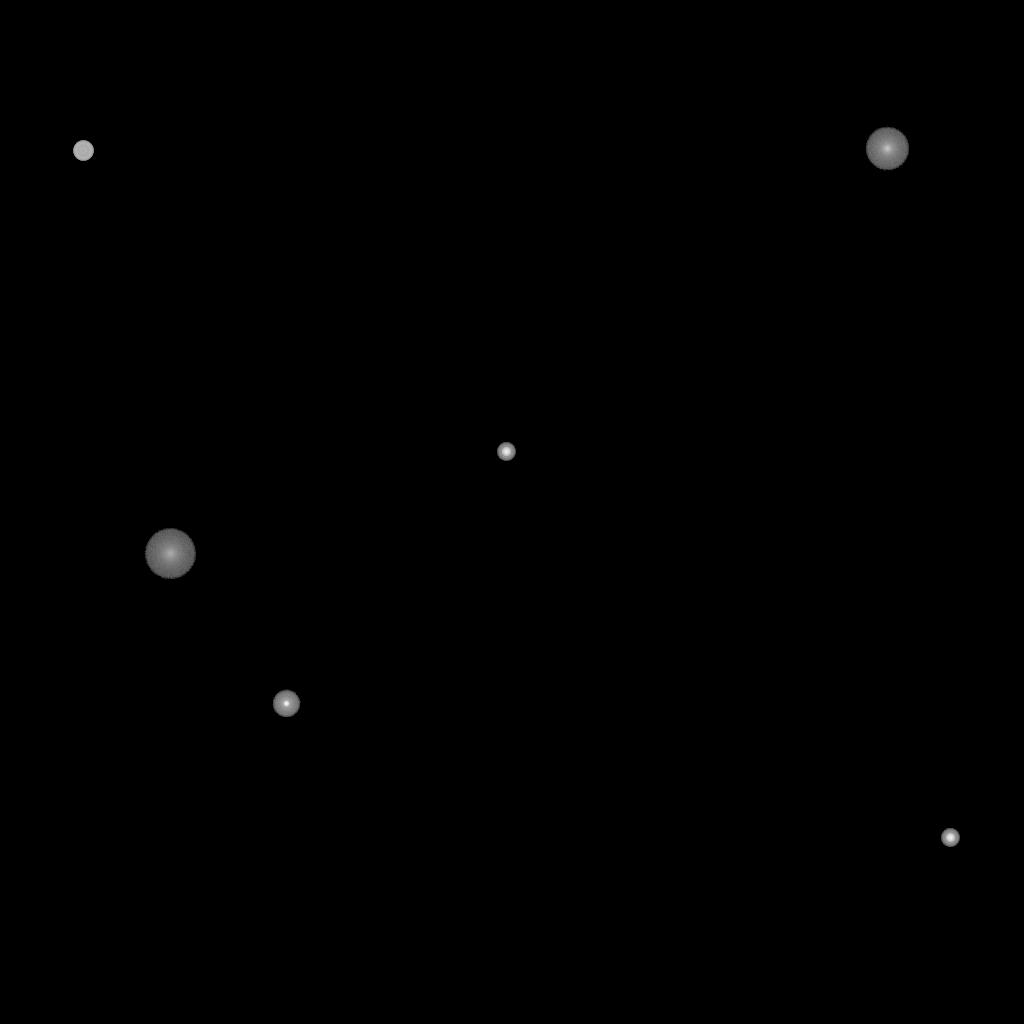depth:-10: (272, 690, 300, 718)
depth:-20: (941, 829, 959, 847), (497, 443, 515, 461)
depth:-40: (73, 141, 93, 161)
depth:10: (865, 127, 909, 171)
depth:20: (144, 529, 196, 579)
